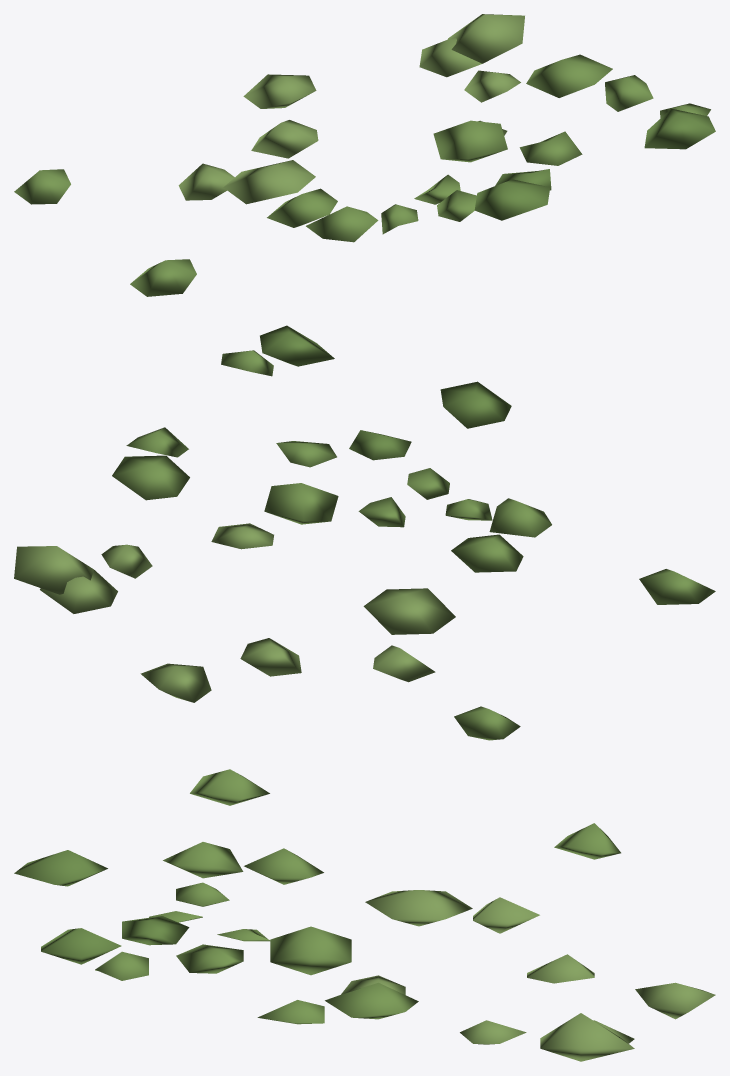
File: canopy-2-0--6.glb
The picture shows the model from 3 angles, top to bottom: view 1: azimuth 30°, elevation 25°; view 2: azimuth 150°, elevation 25°; view 3: azimuth 270°, elevation 25°; orthographic projection. The views are drawn at different scales.
Bounding box in the file's own units: 135 × 35 × 130.
Materials: 1 (1 with a texture image).
